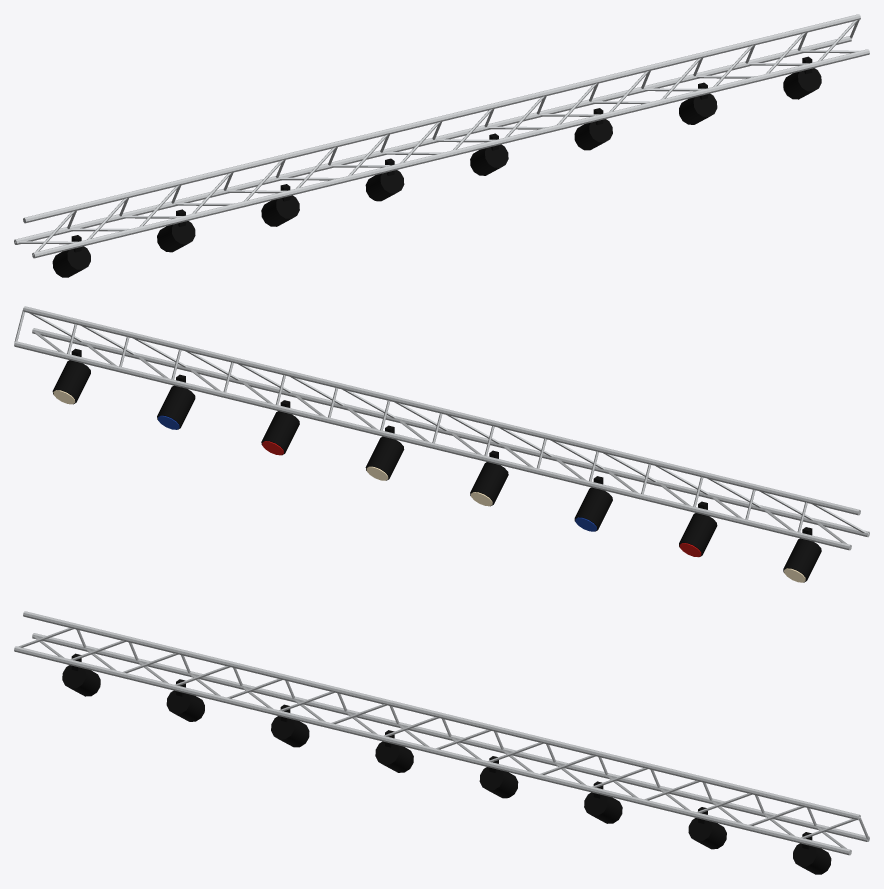
File: venue.stage.lighting_truss.glb
3 renders of one model, top to bottom at view 1: azimuth 30°, elevation 25°; view 2: azimuth 150°, elevation 25°; view 3: azimuth 330°, elevation 25°, orthographic.
Parts seen in each view (by area): view 1: main__aluminium, lanterns__plastic_black; view 2: main__aluminium, lanterns__plastic_black, lanterns__glow; view 3: main__aluminium, lanterns__plastic_black.
Part boxes in pixels (box(x1,y1,x2,y2)): main__aluminium: box(14, 14, 869, 258); lanterns__plastic_black: box(52, 56, 821, 277); main__aluminium: box(14, 306, 869, 550); lanterns__plastic_black: box(52, 348, 821, 582); lanterns__glow: box(53, 390, 805, 582); main__aluminium: box(14, 611, 869, 855); lanterns__plastic_black: box(62, 653, 831, 874).
Bounding box in the file's own units: 8.02 × 0.7211 × 0.441.
